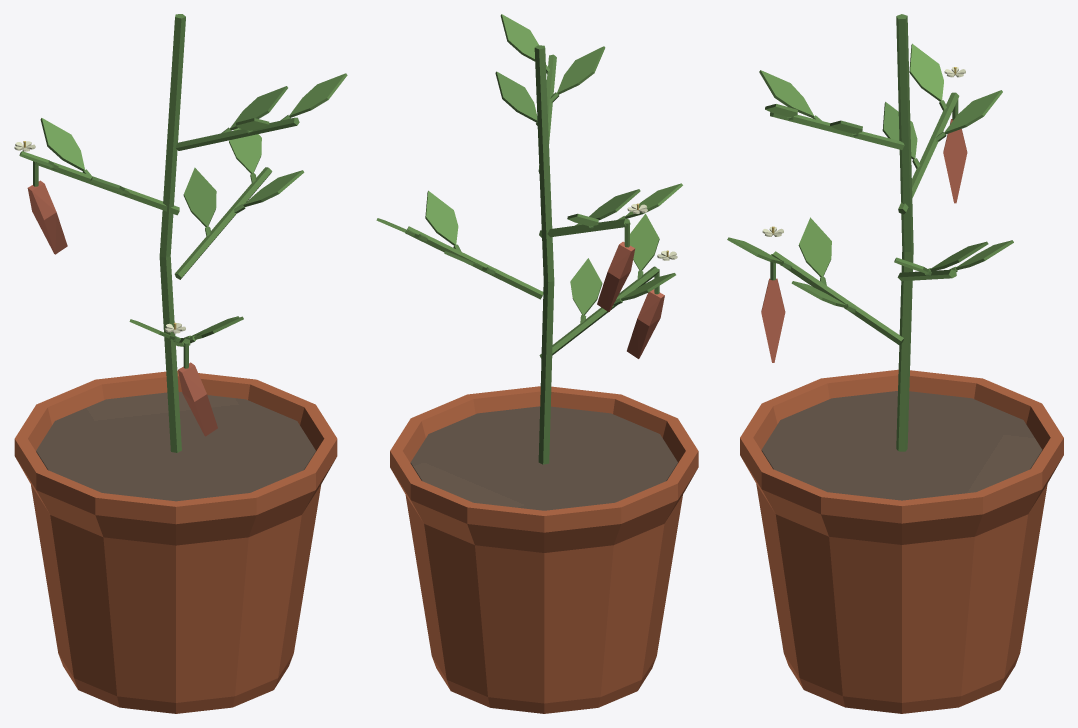
The model's file is chilli.glb.
The picture shows the model from 3 angles, left to right: view 1: azimuth 30°, elevation 25°; view 2: azimuth 150°, elevation 25°; view 3: azimuth 270°, elevation 25°; orthographic projection. The views are drawn at different scales.
Parts seen in each view (by area): view 1: chilli/review-terra-vessel, chilli/review-rooted-soil, chilli/stem-001, chilli/curved-pepper-fruit-033, chilli/curved-pepper-fruit-010, chilli/leaf-020, chilli/petiole-018, chilli/leaf-029, chilli/petiole-041, chilli/petiole-025, chilli/leaf-047, chilli/leaf-024 (+2 smaller); view 2: chilli/review-terra-vessel, chilli/review-rooted-soil, chilli/stem-001, chilli/curved-pepper-fruit-033, chilli/curved-pepper-fruit-010, chilli/leaf-004, chilli/leaf-022, chilli/petiole-018, chilli/leaf-008, chilli/leaf-043, chilli/petiole-002, chilli/leaf-045 (+5 smaller); view 3: chilli/review-terra-vessel, chilli/review-rooted-soil, chilli/stem-001, chilli/curved-pepper-fruit-010, chilli/leaf-006, chilli/petiole-002, chilli/leaf-031, chilli/curved-pepper-fruit-033, chilli/petiole-025, chilli/leaf-045, chilli/petiole-041, chilli/leaf-029 (+1 smaller).
Boxes of the visible parts, left/top/right/bottom form: chilli/review-terra-vessel: left=14, top=370, right=337, bottom=713; chilli/review-rooted-soil: left=36, top=392, right=315, bottom=501; chilli/stem-001: left=159, top=14, right=185, bottom=452; chilli/curved-pepper-fruit-033: left=27, top=180, right=67, bottom=254; chilli/curved-pepper-fruit-010: left=178, top=362, right=217, bottom=436; chilli/leaf-020: left=183, top=167, right=216, bottom=226; chilli/petiole-018: left=174, top=167, right=272, bottom=279; chilli/leaf-029: left=40, top=118, right=84, bottom=171; chilli/petiole-041: left=175, top=117, right=299, bottom=150; chilli/petiole-025: left=35, top=162, right=179, bottom=215; chilli/leaf-047: left=289, top=73, right=347, bottom=117; chilli/leaf-024: left=229, top=114, right=261, bottom=173; chilli/review-terra-vessel: left=390, top=386, right=698, bottom=713; chilli/review-rooted-soil: left=410, top=406, right=677, bottom=510; chilli/stem-001: left=534, top=45, right=554, bottom=464; chilli/curved-pepper-fruit-033: left=597, top=241, right=635, bottom=311; chilli/curved-pepper-fruit-010: left=627, top=289, right=664, bottom=358; chilli/leaf-004: left=570, top=258, right=602, bottom=314; chilli/leaf-022: left=425, top=190, right=458, bottom=245; chilli/petiole-018: left=405, top=226, right=543, bottom=299; chilli/leaf-008: left=630, top=213, right=659, bottom=270; chilli/leaf-043: left=495, top=71, right=537, bottom=122; chilli/petiole-002: left=539, top=266, right=659, bottom=358; chilli/leaf-045: left=557, top=46, right=605, bottom=94; chilli/review-terra-vessel: left=740, top=369, right=1063, bottom=713; chilli/review-rooted-soil: left=761, top=391, right=1042, bottom=500; chilli/stem-001: left=896, top=14, right=913, bottom=451; chilli/curved-pepper-fruit-010: left=761, top=278, right=785, bottom=362; chilli/leaf-006: left=798, top=217, right=831, bottom=277; chilli/petiole-002: left=772, top=251, right=903, bottom=345; chilli/leaf-031: left=909, top=43, right=943, bottom=101; chilli/curved-pepper-fruit-033: left=943, top=119, right=967, bottom=203; chilli/petiole-025: left=898, top=92, right=959, bottom=214; chilli/leaf-045: left=759, top=70, right=814, bottom=117; chilli/petiole-041: left=770, top=112, right=904, bottom=149; chilli/leaf-029: left=944, top=90, right=1002, bottom=134.
Size of the model in its own units: 0.28 by 0.5993 by 0.2808.
Materials: 6 (6 with a texture image).
